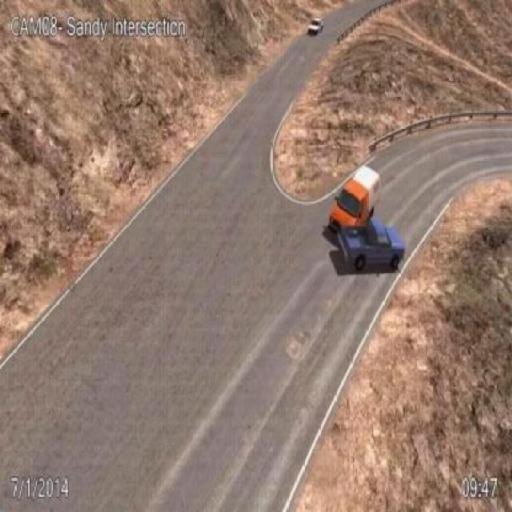小汽车撞小汽车: (328, 166, 404, 263)
